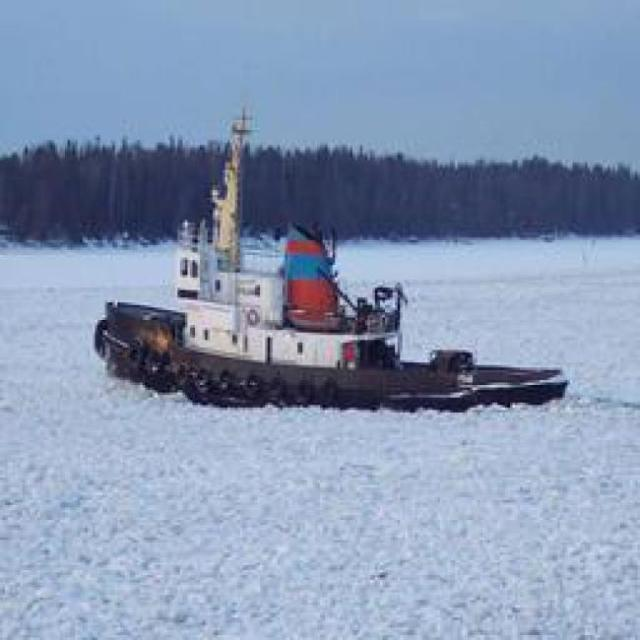boat: (67, 181, 596, 429)
